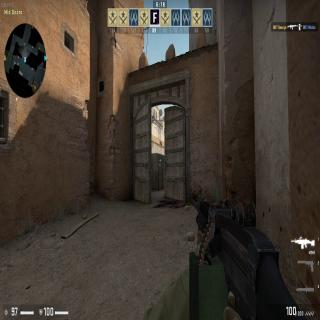CT-Head: (160, 142, 162, 144)
